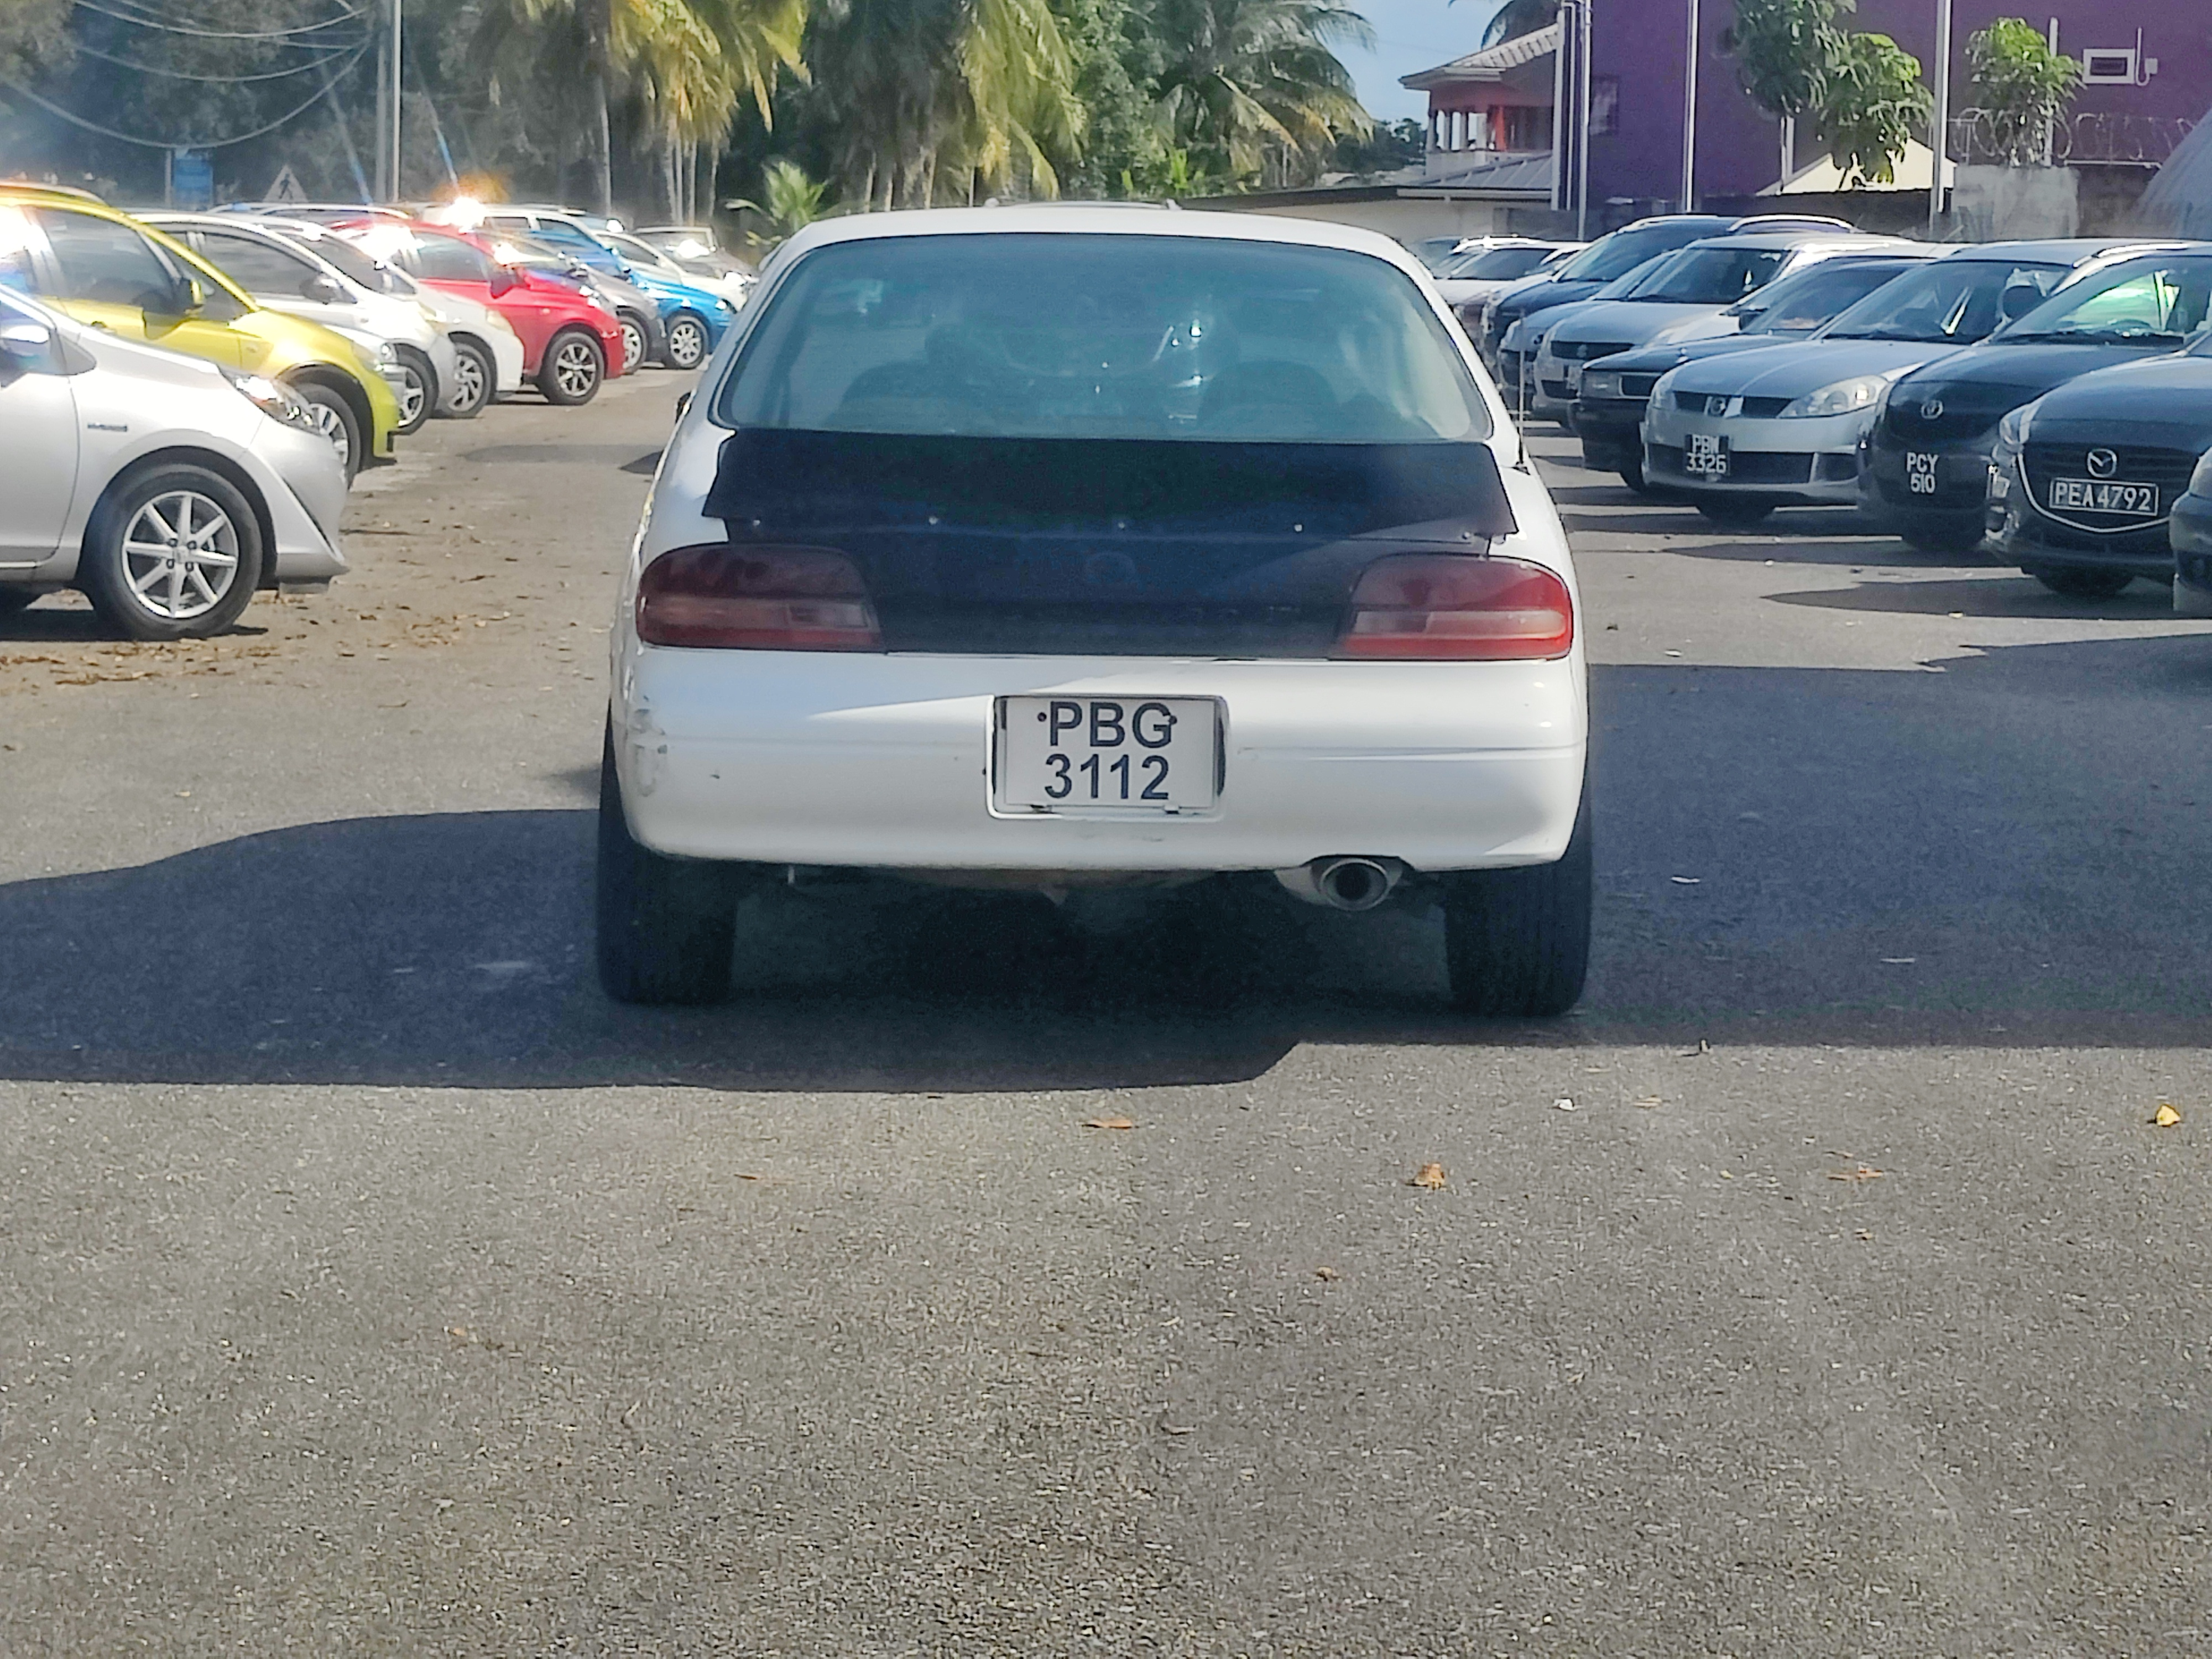License-Plate: (1008, 697, 1209, 805), (2051, 478, 2158, 507), (1901, 450, 1947, 492), (1686, 432, 1730, 471)
